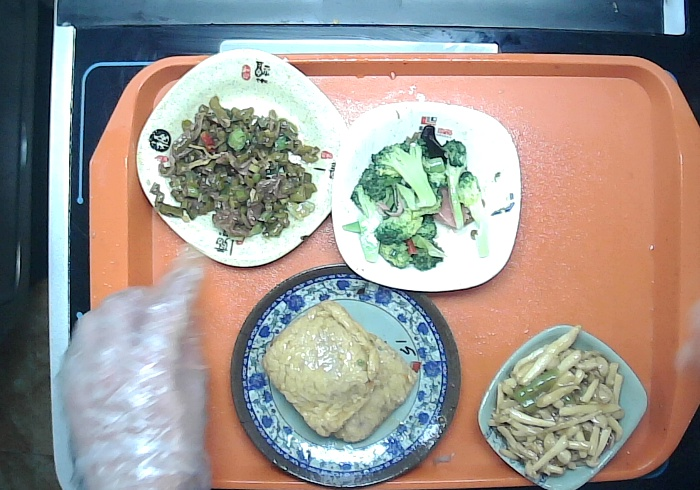NLDX-Bai_Se_Xiao_Fang_Die: (327, 98, 524, 294)
NLDX-Fu_Zi_Fang_Die: (133, 45, 349, 267)
NLDX-Qing_Hua_Xiao_Fang_Die: (476, 323, 649, 490)
NLDX-Qing_Hua_Yuan_Die: (227, 262, 463, 490)
